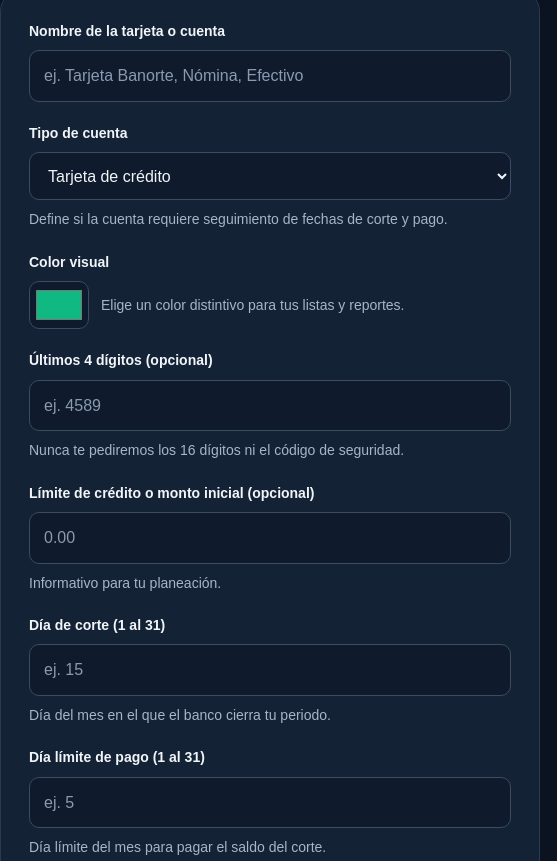
Test: CardForm › renders credit card fields by default and validates required cutoff
This screenshot has width=557, height=861.
Expected: the dropdown labelled "Tipo de cuenta" shows "Tarjeta de crédito", [29,152,511,200]
Expected: the number field labelled "Día de corte (1 al 31)" is shown, [29,644,511,696]
Step 1. Type "Mi Tarjeta" into the field labelled "Nombre de la tarjeta o cuenta" → coordinates (270, 76), box [29,50,511,102]
(page scrolled)
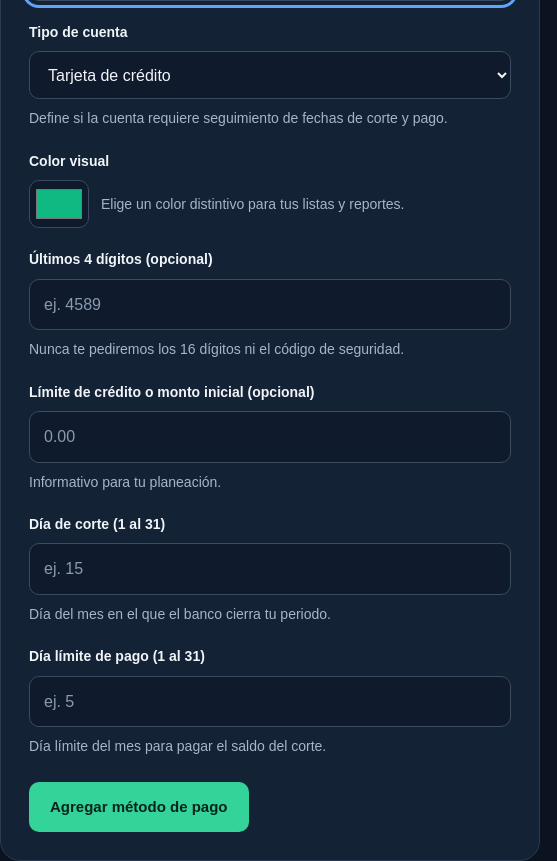
Step 2. Click the button "Agregar método de pago" → coordinates (139, 807), box [29,782,248,832]
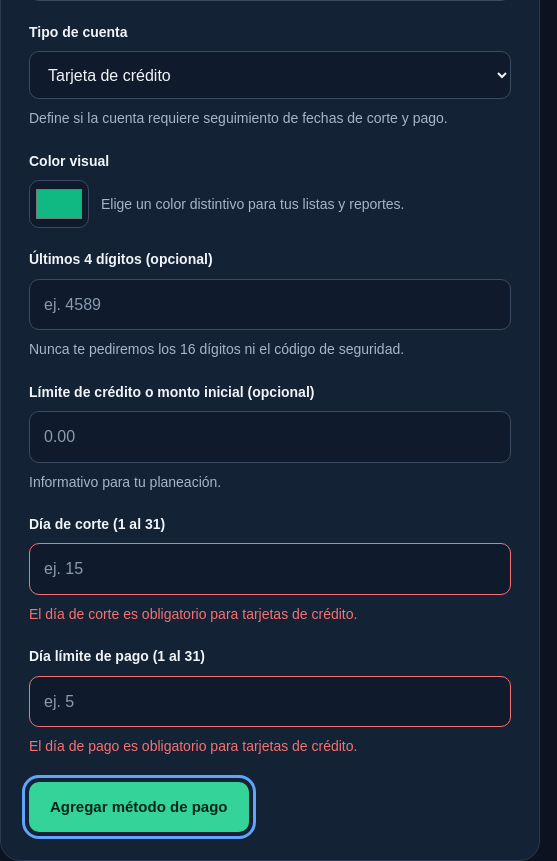
Expected: the text "El día de corte es obligatorio para tarjetas de crédito." is shown, [29,606,357,622]
